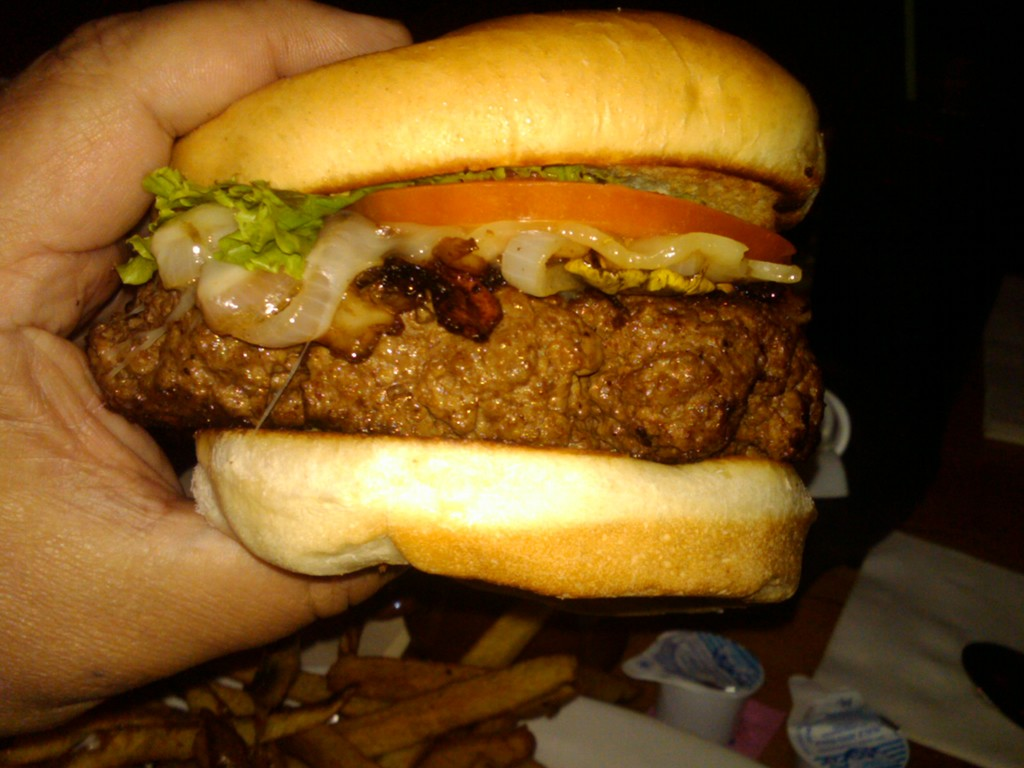French fries: (0, 598, 581, 767)
